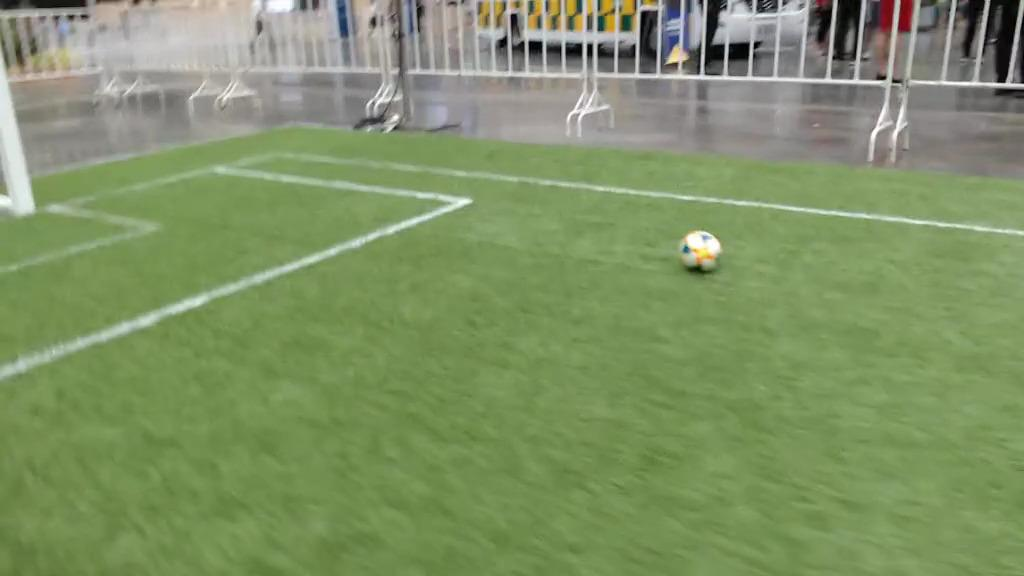ball: (681, 230, 721, 275)
